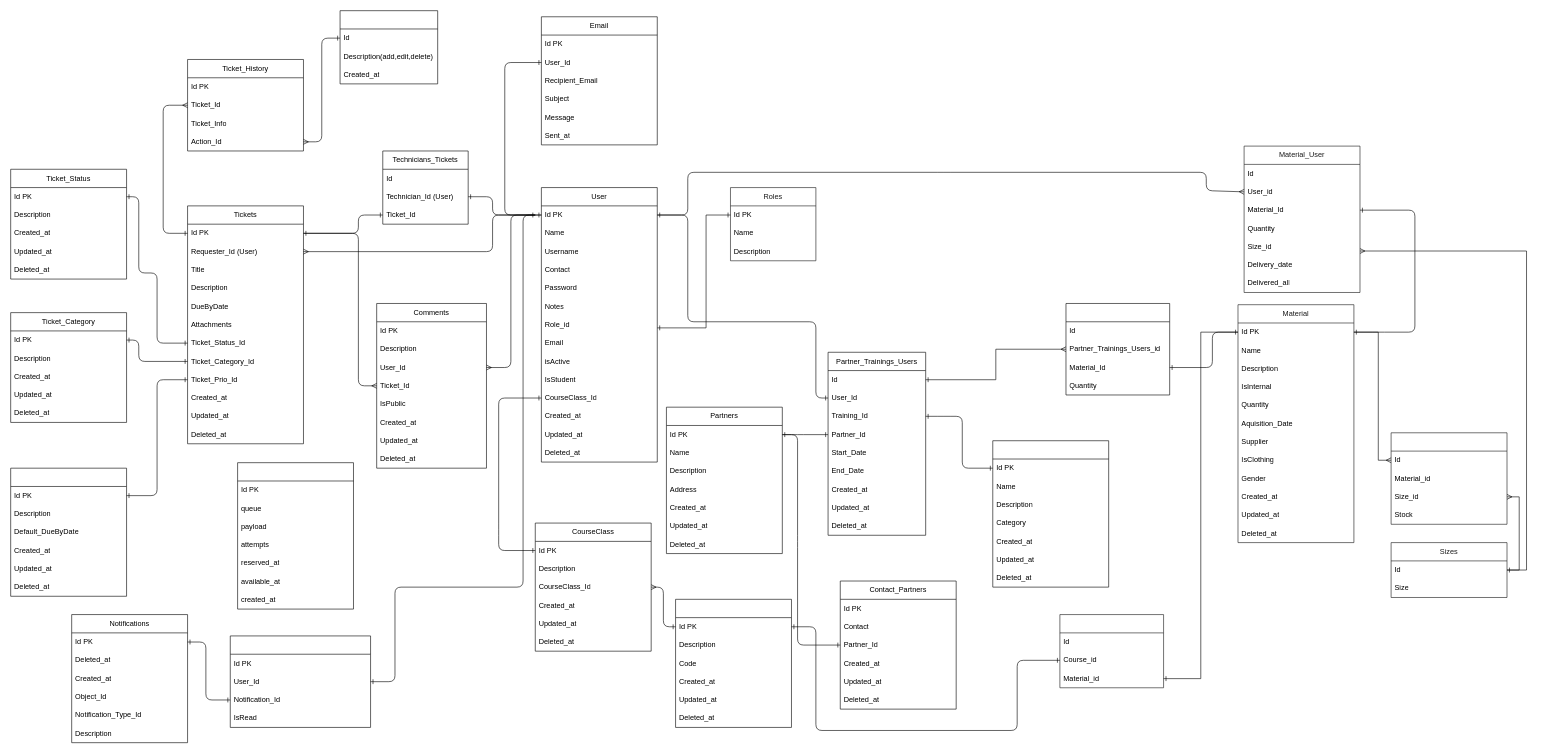
Image size: 1542x753. Some labels were removed from this diagram. The shapes that lost their labels are listed below. From the top down, each one's box as (x1, y1, x2, y2) in pixels, then its label:
(339, 10, 438, 84): Actions
(1065, 303, 1170, 395): Material_PartnerTrainingUsers
(1390, 432, 1507, 524): Material_Sizes
(10, 468, 127, 596): Ticket_Prio
(992, 440, 1109, 587): Trainings
(237, 462, 353, 609): Jobs
(675, 599, 791, 727): Course
(1059, 614, 1164, 688): Course_Material
(230, 635, 371, 727): Notifications_Users
